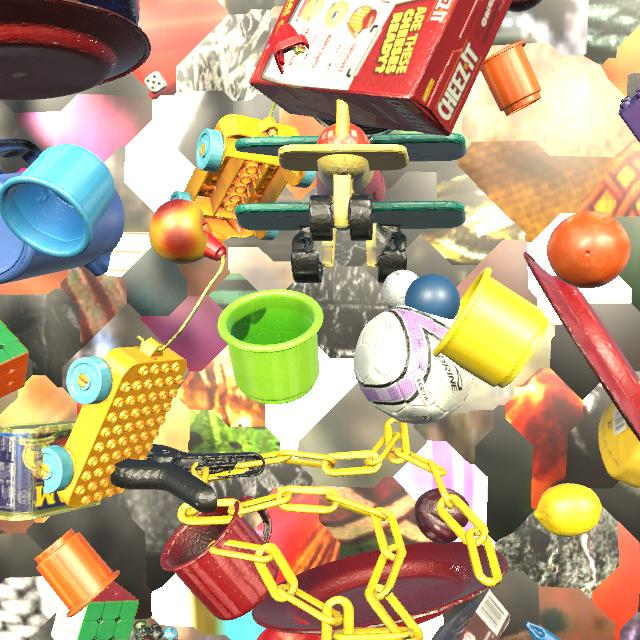ycb_002_master_chef_can: (313, 117, 393, 137)
ycb_003_cracker_box: (249, 0, 512, 136)
ycb_006_mustard_bottle: (598, 381, 640, 488)
ycb_008_pudding_box: (432, 589, 510, 640)
ycb_010_potted_meat_can: (0, 421, 101, 521)
ycb_013_apple: (257, 618, 321, 640)
ycb_014_lemon: (534, 483, 602, 537)
ycb_015_peach: (149, 199, 213, 264)
ycb_017_orange: (547, 211, 631, 289)
ycb_018_plum: (414, 488, 470, 544), (508, 0, 542, 12)
